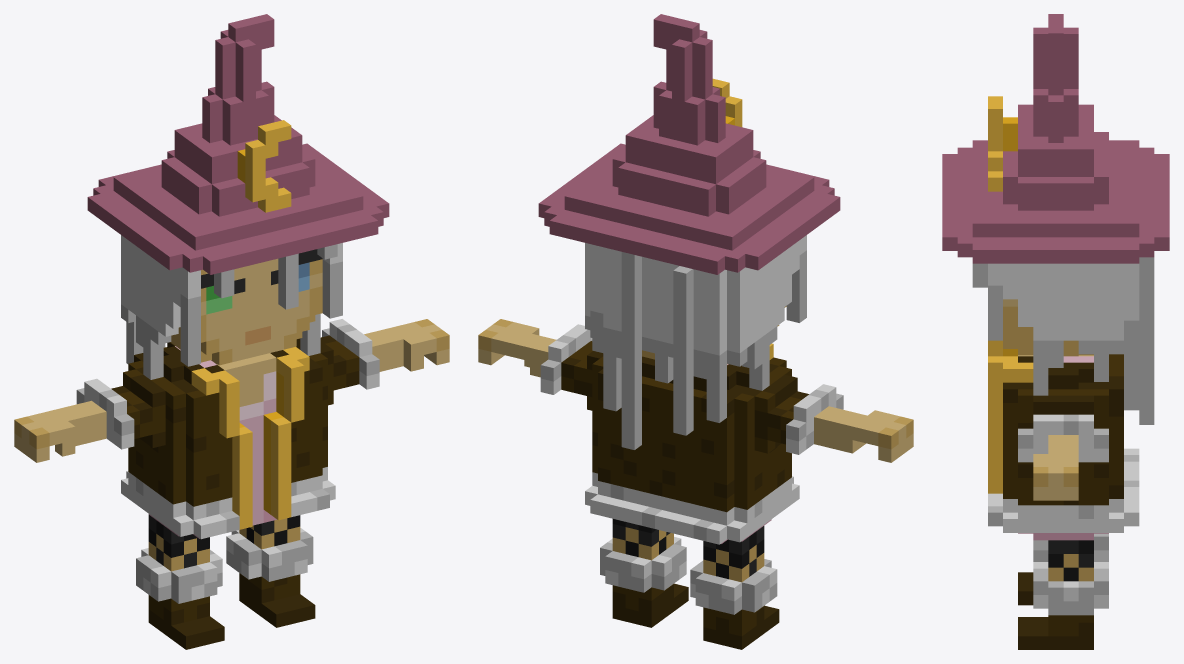
Rendered from my_girl_no_potion.fbx.
3 renders of one model, left to right at view 1: azimuth 30°, elevation 25°; view 2: azimuth 150°, elevation 25°; view 3: azimuth 270°, elevation 25°, orthographic.
Visible parts, largest first — view 1: hat, body, hair, head, leg, leg_1, arm_1, arm; view 2: hat, hair, body, leg, leg_1, arm_1, arm; view 3: hat, body, hair, leg_1, arm, head, leg.
Boxes of the visible parts, x1=… form: hat: x1=87, y1=14, x2=389, y2=274; body: x1=121, y1=338, x2=335, y2=539; hair: x1=121, y1=235, x2=342, y2=379; head: x1=170, y1=249, x2=322, y2=365; leg: x1=136, y1=515, x2=224, y2=649; leg_1: x1=226, y1=515, x2=315, y2=627; arm_1: x1=14, y1=378, x2=152, y2=462; arm: x1=320, y1=319, x2=449, y2=390; hat: x1=538, y1=14, x2=840, y2=274; hair: x1=585, y1=235, x2=806, y2=449; body: x1=585, y1=343, x2=799, y2=544; leg: x1=690, y1=526, x2=779, y2=649; leg_1: x1=600, y1=519, x2=688, y2=627; arm_1: x1=767, y1=384, x2=913, y2=462; arm: x1=478, y1=319, x2=592, y2=395; hat: x1=942, y1=14, x2=1169, y2=263; body: x1=988, y1=340, x2=1139, y2=540; hair: x1=972, y1=257, x2=1154, y2=424; leg_1: x1=1018, y1=540, x2=1108, y2=649; arm: x1=1018, y1=414, x2=1108, y2=500; head: x1=1003, y1=299, x2=1093, y2=355; leg: x1=1018, y1=533, x2=1108, y2=605.
Bounding box in the file's own units: 32 × 44 × 15.
Materials: 1 (1 with a texture image).
